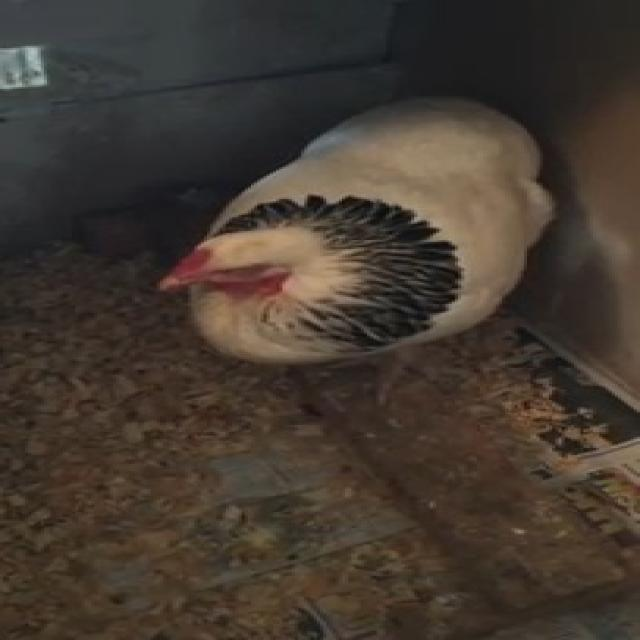Breathing: (151, 93, 558, 364)
